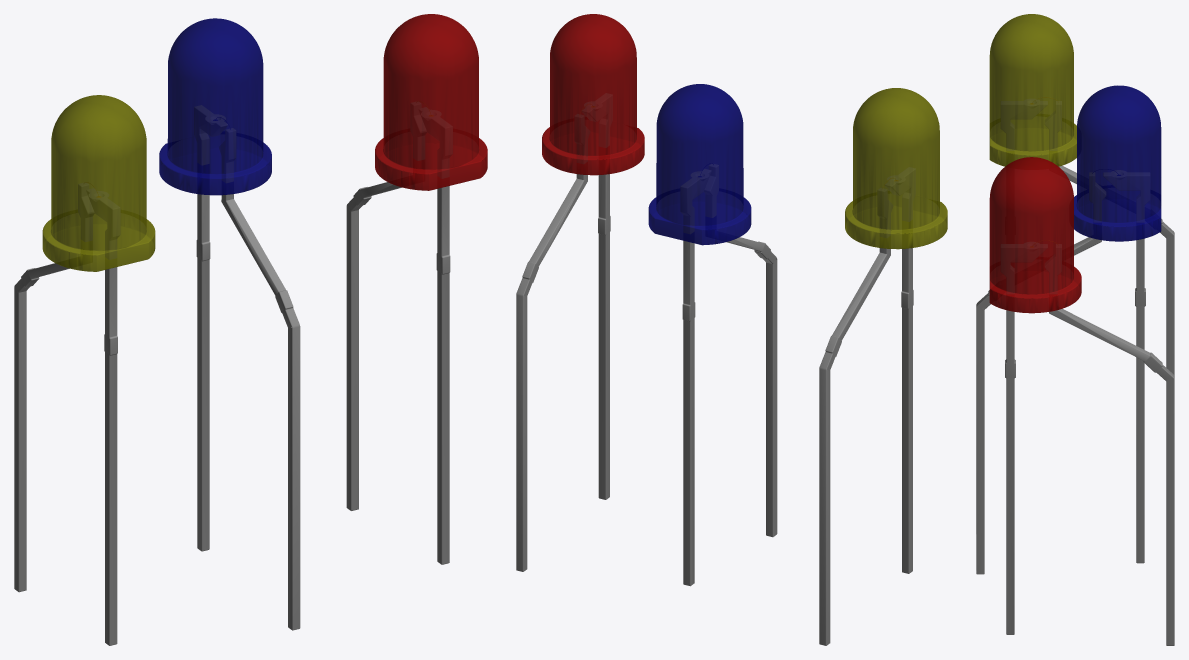
File: 31. LED LIGHTS.gltf
The picture shows the model from 3 angles, left to right: view 1: azimuth 30°, elevation 25°; view 2: azimuth 150°, elevation 25°; view 3: azimuth 270°, elevation 25°; orthographic projection. The views are drawn at different scales.
Parts seen in each view (by area): view 1: LED RED.001; view 2: LED RED.001; view 3: LED RED.001.
Boxes of the visible parts, bbox=[...] form: LED RED.001: bbox=[14, 14, 487, 645]; LED RED.001: bbox=[516, 14, 947, 645]; LED RED.001: bbox=[976, 14, 1174, 645].
Size of the model in its own units: 0.0262 by 0.0319 by 0.0119.
